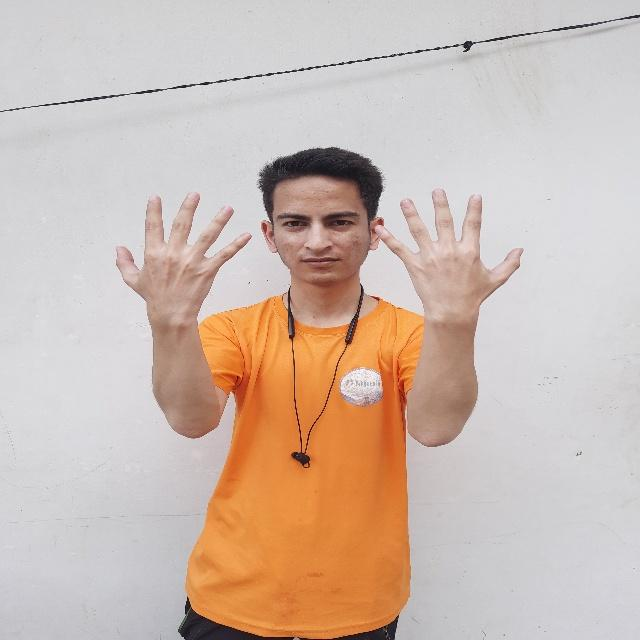Moutza: (368, 183, 530, 332), (113, 183, 255, 335)
